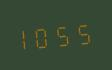five: (56, 19, 74, 48), (75, 18, 93, 46)
one: (18, 23, 36, 51)
zero: (37, 21, 55, 49)
